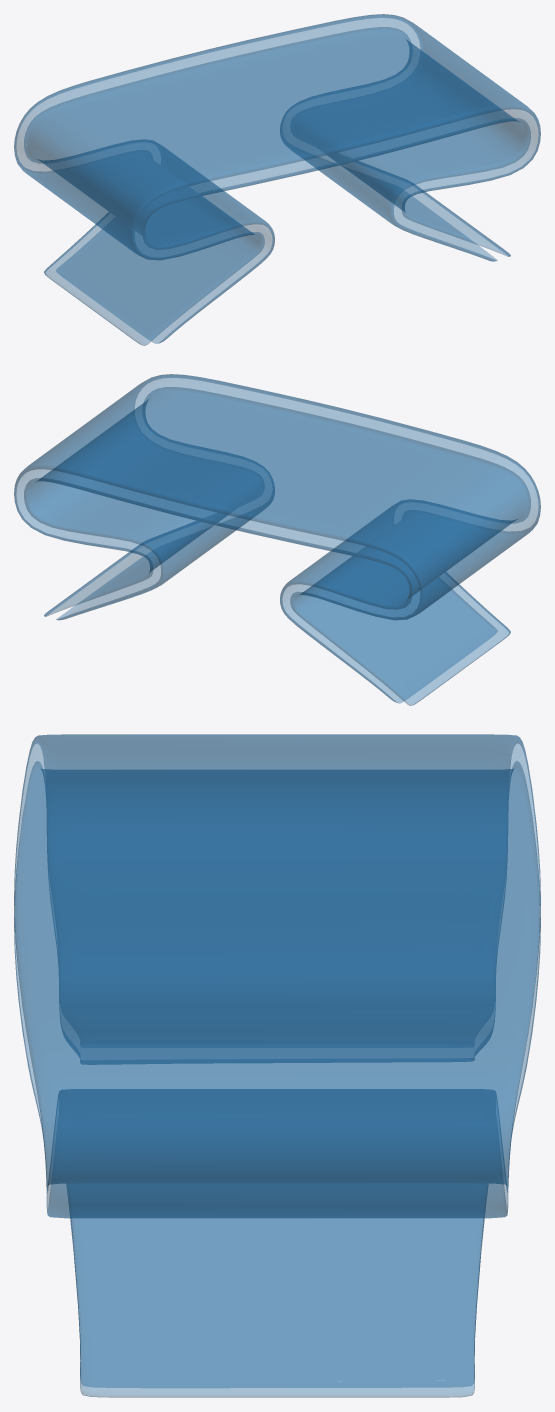
The model's file is glassDesk.glb.
3 renders of one model, top to bottom at view 1: azimuth 30°, elevation 25°; view 2: azimuth 150°, elevation 25°; view 3: azimuth 270°, elevation 25°, orthographic. The views are drawn at different scales.
Parts seen in each view (by area): view 1: Object_2; view 2: Object_2; view 3: Object_2.
Part boxes in pixels (x1=…): Object_2: x1=14, y1=14, x2=540, y2=345; Object_2: x1=14, y1=374, x2=540, y2=705; Object_2: x1=14, y1=734, x2=540, y2=1397.
Size of the model in its own units: 3.3 by 1.3 by 1.88.
